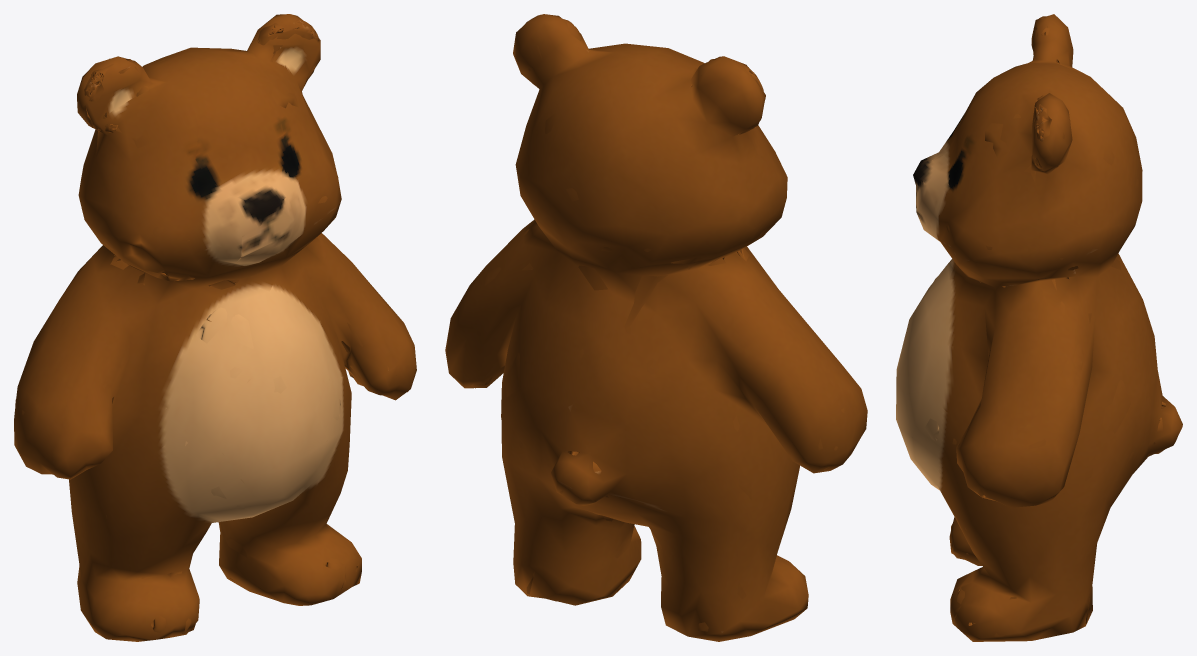
File: audience-bear.glb
3 views of the same model, side by side, from view 1: azimuth 30°, elevation 25°; view 2: azimuth 150°, elevation 25°; view 3: azimuth 270°, elevation 25° (orthographic). The views are drawn at different scales.
Parts seen in each view (by area): view 1: audience-bear; view 2: audience-bear; view 3: audience-bear.
Boxes of the visible parts, x1,y1,x2,y2 form: audience-bear: (14, 14, 416, 641); audience-bear: (445, 14, 867, 641); audience-bear: (896, 14, 1182, 641).
Size of the model in its own units: 0.7284 by 1 by 0.4914.
1 material, 1 textured.
